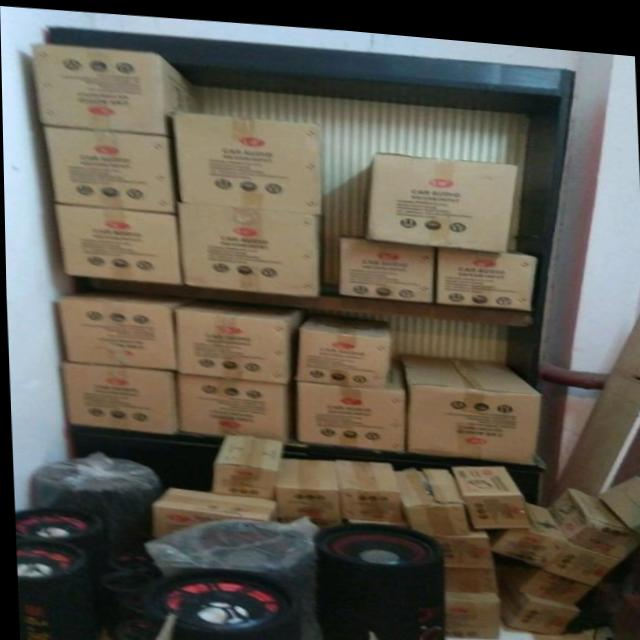box: (169, 106, 322, 207), (31, 43, 198, 131), (402, 348, 539, 454), (370, 146, 513, 240), (175, 197, 315, 286), (171, 294, 308, 379), (41, 126, 173, 210), (53, 289, 191, 367), (490, 496, 621, 576), (296, 351, 406, 445), (54, 203, 180, 279), (61, 361, 184, 431), (170, 373, 290, 435), (295, 305, 391, 381), (430, 241, 534, 301), (546, 478, 635, 547), (340, 230, 431, 293), (151, 486, 275, 532), (394, 463, 473, 530), (452, 457, 533, 521), (331, 453, 410, 518), (492, 543, 592, 594), (270, 452, 342, 515), (495, 566, 571, 624), (212, 433, 282, 494), (442, 581, 500, 632), (598, 467, 640, 528), (433, 523, 491, 560), (440, 556, 497, 582)
